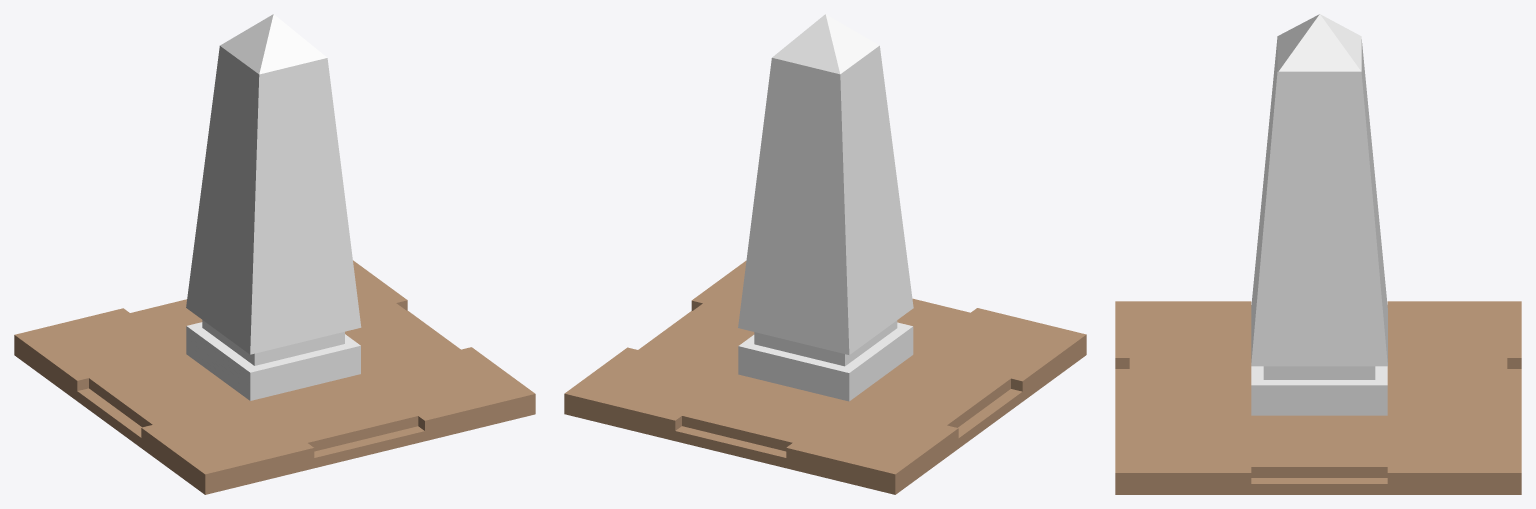
File: Shrine02.fbx
The picture shows the model from 3 angles, left to right: view 1: azimuth 30°, elevation 25°; view 2: azimuth 150°, elevation 25°; view 3: azimuth 270°, elevation 25°; orthographic projection. The views are drawn at different scales.
Parts seen in each view (by area): view 1: Shrine02; view 2: Shrine02; view 3: Shrine02.
Part boxes in pixels (x1,y1,x2,y2): Shrine02: [14, 14, 535, 494]; Shrine02: [564, 14, 1086, 494]; Shrine02: [1115, 14, 1521, 494].
Size of the model in its own units: 0.7935 by 0.8505 by 0.7935.
